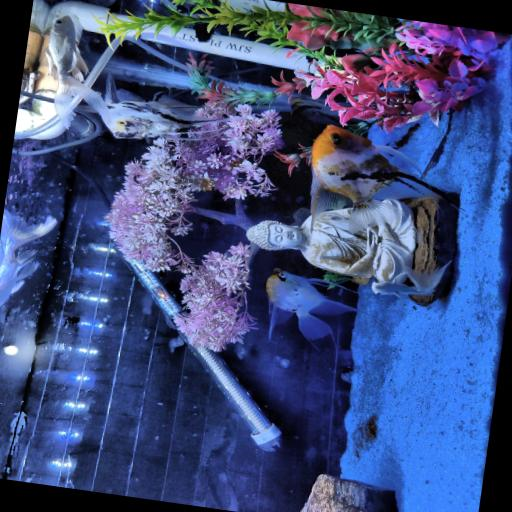Fish: (311, 125, 438, 232), (101, 74, 243, 138), (45, 15, 106, 127), (267, 268, 356, 339), (0, 210, 57, 305), (372, 261, 451, 298), (21, 69, 41, 92)
